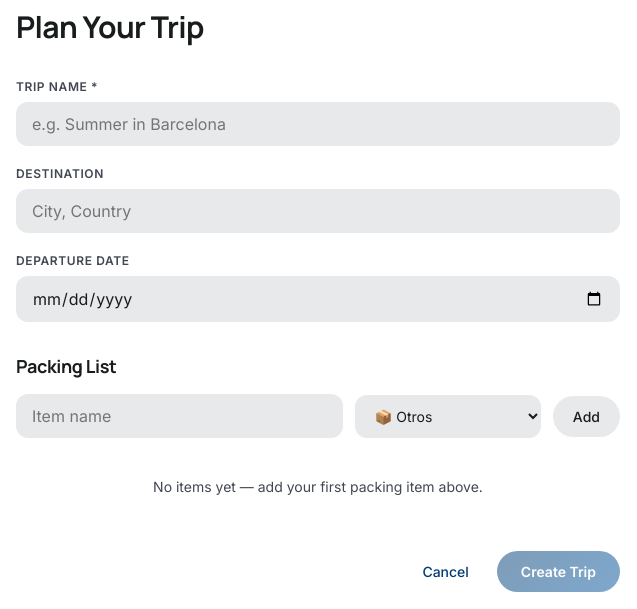
Test: TripForm › save button is enabled when trip name is filled
The image size is (637, 609).
Type "My Trip" into the field with test id "trip-name-input" at (318, 124), box [16,102,620,146]
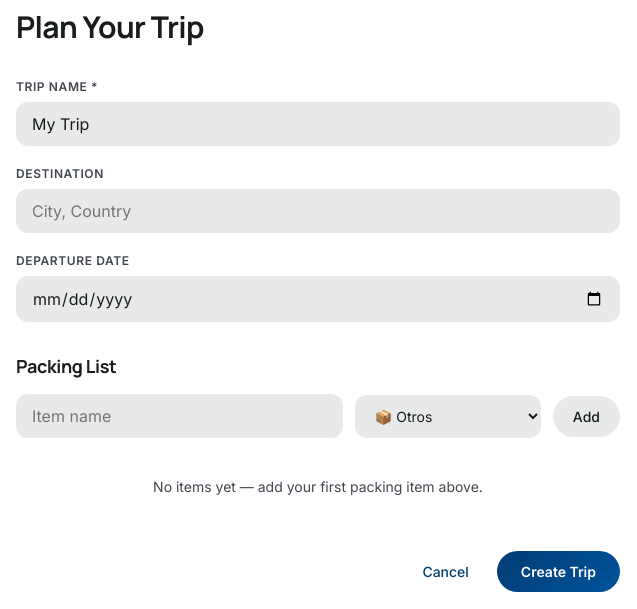
Expected: the button with test id "save-trip-button" is enabled, [497,551,620,592]
